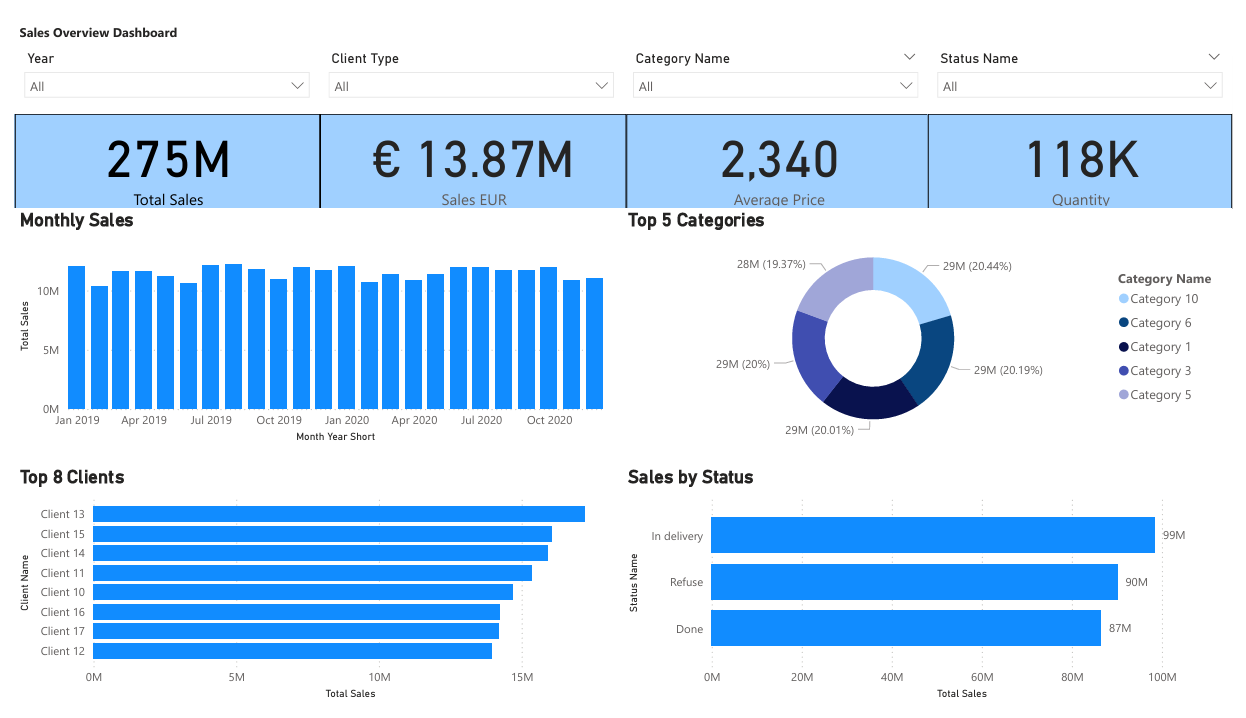

What the dashboard file says about the page in this screenshot:
{"tool":"powerbi","page":{"name":"Sales Overview","canvas":[1280,720],"ordinal":0},"visuals":[{"type":"textbox","box":[0,0,1278.8,27.5],"z":0},{"type":"card","fields":{"Values":["Fact.Total Sales"]},"box":[0,100,321.2,100],"z":1000},{"type":"card","fields":{"Values":["Fact.Sales EUR"]},"box":[321.2,100,321.2,100],"z":2000},{"type":"card","fields":{"Values":["Fact.Average Price"]},"box":[642.5,100,320,100],"z":3000},{"type":"card","fields":{"Values":["Sum(Fact.Quantity)"]},"box":[960,100,320,100],"z":4000},{"type":"clusteredColumnChart","title":"Monthly Sales","fields":{"Y":["Fact.Total Sales"],"Category":["Calendar.Month Year Short"]},"box":[0,200,640,250],"z":5000},{"type":"donutChart","title":"Top 5 Categories","fields":{"Category":["DIM Category.Category Name"],"Y":["Fact.Total Sales"]},"box":[640,200,640,250],"z":6000},{"type":"clusteredBarChart","title":"Top 8 Clients","fields":{"Category":["Fact.Client Name"],"Y":["Fact.Total Sales"]},"box":[0,470,640,250],"z":7000},{"type":"clusteredBarChart","title":"Sales by Status","fields":{"Category":["Fact.Status Name"],"Y":["Fact.Total Sales"]},"box":[640,470,640,250],"z":8000},{"type":"slicer","fields":{"Values":["Calendar.Year"]},"box":[0,27.5,320,72.5],"z":9000},{"type":"slicer","fields":{"Values":["DIM Clients.Client Type"]},"box":[320,27.5,320,72.5],"z":10000},{"type":"slicer","fields":{"Values":["DIM Category.Category Name"]},"box":[640,27.5,320,72.5],"z":11000},{"type":"slicer","fields":{"Values":["DIM Status.Status Name"]},"box":[960,27.5,320,72.5],"z":12000}]}

Visuals, with their boxes in screenshot pixels (x1, y1, x2, y2), scaled from the page's 1280x720 canvas onto the 1246x718 screenshot:
textbox: [0, 0, 1245, 27]
card - Fact.Total Sales: [0, 100, 313, 199]
card - Fact.Sales EUR: [313, 100, 625, 199]
card - Fact.Average Price: [625, 100, 937, 199]
card - Sum(Fact.Quantity): [934, 100, 1245, 199]
"Monthly Sales" clusteredColumnChart: [0, 199, 623, 449]
"Top 5 Categories" donutChart: [623, 199, 1245, 449]
"Top 8 Clients" clusteredBarChart: [0, 469, 623, 717]
"Sales by Status" clusteredBarChart: [623, 469, 1245, 717]
slicer - Calendar.Year: [0, 27, 312, 100]
slicer - DIM Clients.Client Type: [312, 27, 623, 100]
slicer - DIM Category.Category Name: [623, 27, 934, 100]
slicer - DIM Status.Status Name: [934, 27, 1245, 100]
